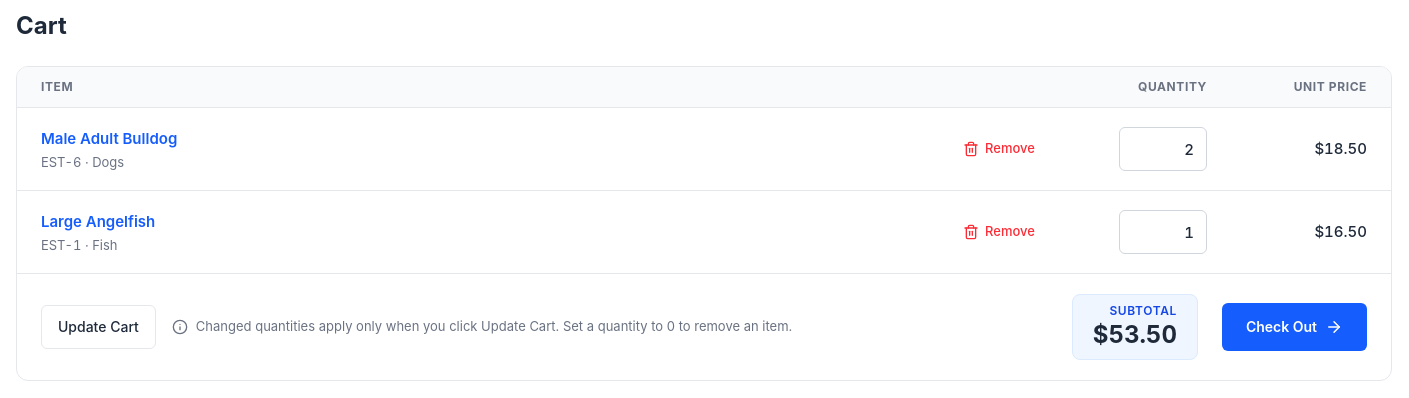
Test: CartPage › Update Cart sends every raw quantity in one PATCH and re-renders
Replace the text in the field named "Quantity for Male Adult Bulldog" with "5": (1163, 149) [1119,127,1207,171]
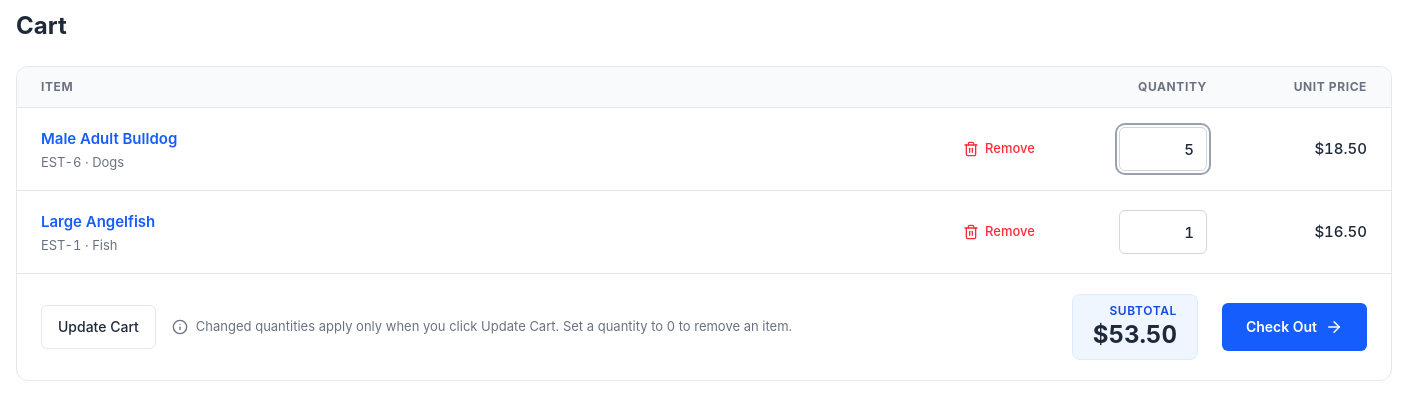
Replace the text in the field named "Quantity for Large Angelfish" with "abc": (1163, 232) [1119,210,1207,254]
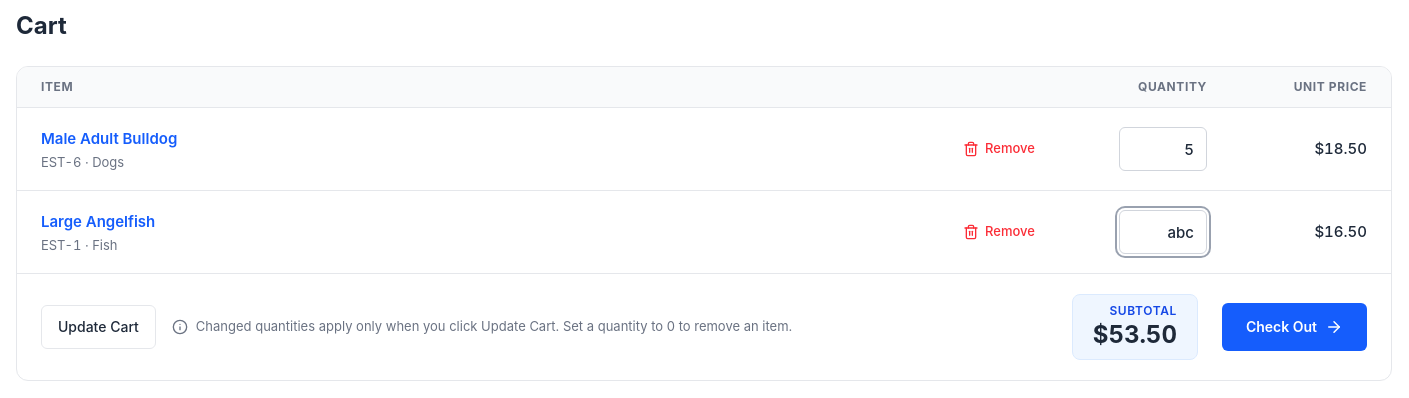
Click the button "Update Cart": click(98, 327) [41,305,156,349]
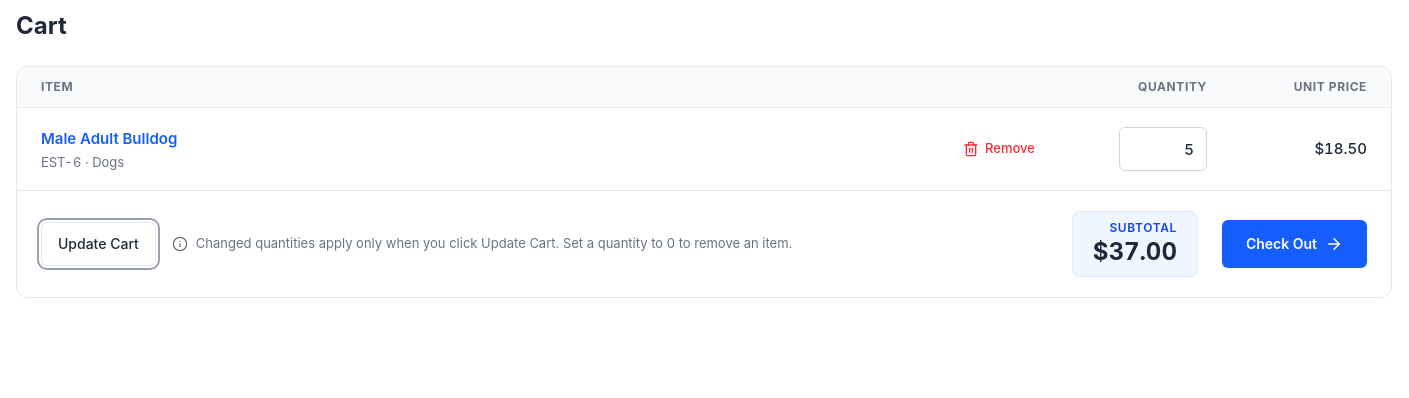
Now the link "Large Angelfish" is gone
